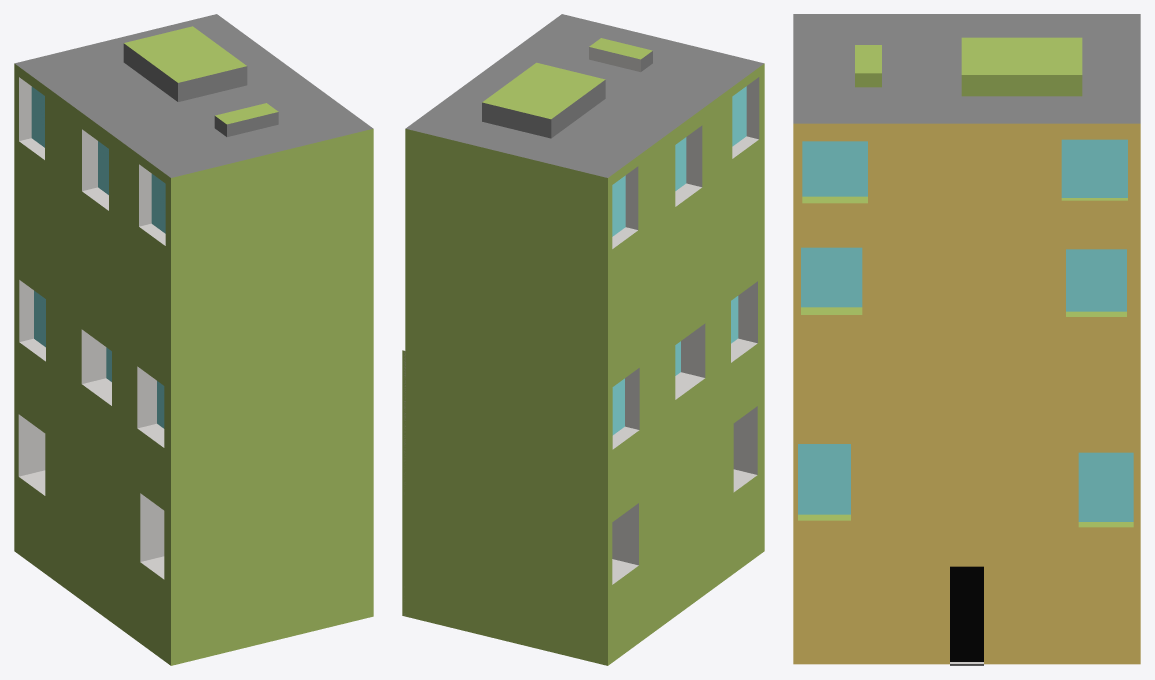
Rendered from dom1_2.fbx.
3 views of the same model, side by side, from view 1: azimuth 30°, elevation 25°; view 2: azimuth 150°, elevation 25°; view 3: azimuth 270°, elevation 25° (orthographic). The views are drawn at different scales.
Parts seen in each view (by area): view 1: Mesh01; view 2: Mesh01; view 3: Mesh01.
Boxes of the visible parts, x1,y1,x2,y2 form: Mesh01: [14, 14, 373, 665]; Mesh01: [402, 14, 764, 665]; Mesh01: [793, 14, 1140, 665].
Size of the model in its own units: 5938 by 14038 by 7842.
